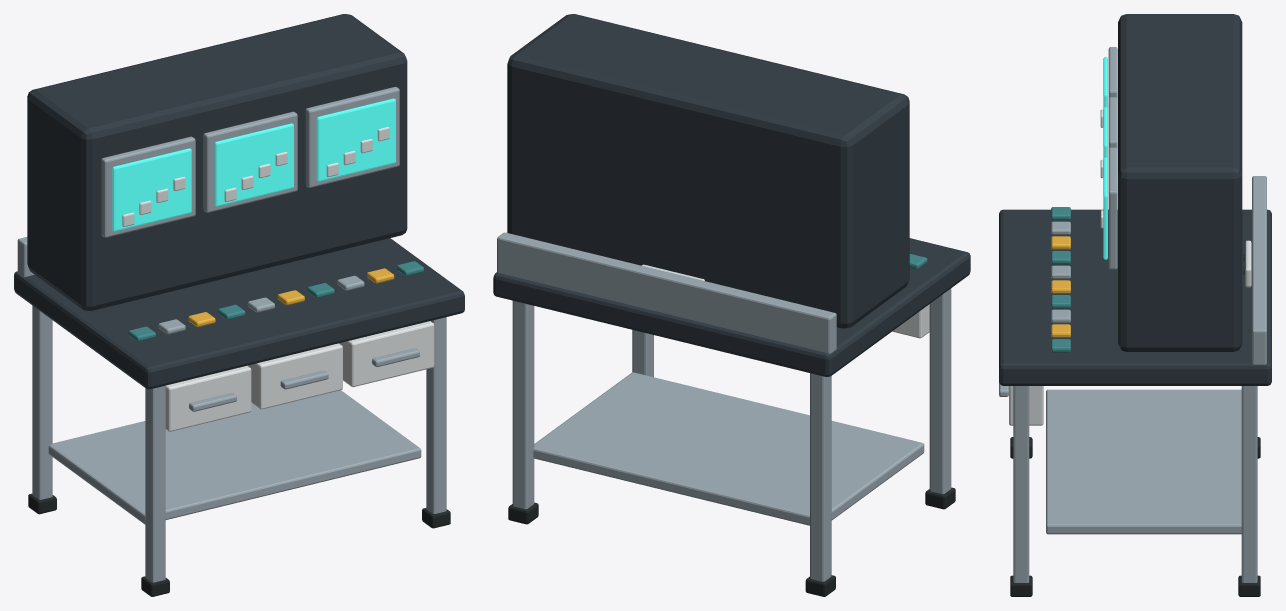
File: control-desk.glb
3 renders of one model, left to right at view 1: azimuth 30°, elevation 25°; view 2: azimuth 150°, elevation 25°; view 3: azimuth 270°, elevation 25°, orthographic. The views are drawn at different scales.
Visible parts, largest first — view 1: Console body, Worktop, Equipment shelf, Screen, Screen.002, Screen.001, Tubular leg, Cabinet drawer.001, Cabinet drawer.002, Tubular leg.001, Cabinet drawer, Tubular leg.002 (+3 smaller); view 2: Console body, Equipment shelf, Splashback, Worktop, Tubular leg.003, Tubular leg, Tubular leg.001, Tubular leg.002, Cabinet drawer; view 3: Console body, Equipment shelf, Worktop, Tubular leg.002, Tubular leg.003, Splashback, Screen frame.002, Cabinet drawer.002, Screen.002, Screen frame.001, Screen frame, Rubber pad.002 (+1 smaller).
Boxes of the visible parts, x1,y1,x2,y2 form: Console body: [27, 14, 407, 310]; Worktop: [14, 238, 464, 389]; Equipment shelf: [48, 390, 421, 524]; Screen: [112, 148, 191, 231]; Screen.002: [316, 98, 395, 181]; Screen.001: [214, 123, 293, 206]; Tubular leg: [145, 385, 165, 582]; Cabinet drawer.001: [248, 343, 342, 409]; Cabinet drawer.002: [339, 321, 434, 387]; Tubular leg.001: [32, 305, 52, 499]; Cabinet drawer: [165, 365, 251, 431]; Tubular leg.002: [426, 317, 446, 513]; Console body: [507, 14, 909, 328]; Equipment shelf: [533, 372, 924, 525]; Splashback: [497, 232, 836, 353]; Worktop: [493, 238, 970, 376]; Tubular leg.003: [512, 300, 534, 509]; Tubular leg: [929, 288, 951, 494]; Tubular leg.001: [810, 373, 831, 581]; Tubular leg.002: [632, 330, 653, 377]; Cabinet drawer: [892, 304, 929, 338]; Console body: [1118, 14, 1242, 351]; Equipment shelf: [1046, 389, 1241, 534]; Worktop: [999, 209, 1271, 385]; Tubular leg.002: [1013, 386, 1029, 582]; Tubular leg.003: [1241, 386, 1257, 582]; Splashback: [1252, 176, 1266, 364]; Screen frame.002: [1108, 147, 1117, 269]; Cabinet drawer.002: [1009, 386, 1043, 425]; Screen.002: [1103, 157, 1107, 259]; Screen frame.001: [1108, 97, 1117, 148]; Screen frame: [1108, 47, 1117, 98]; Rubber pad.002: [1010, 575, 1032, 596].
Size of the model in its own units: 1.53 by 1.92 by 1.1.
